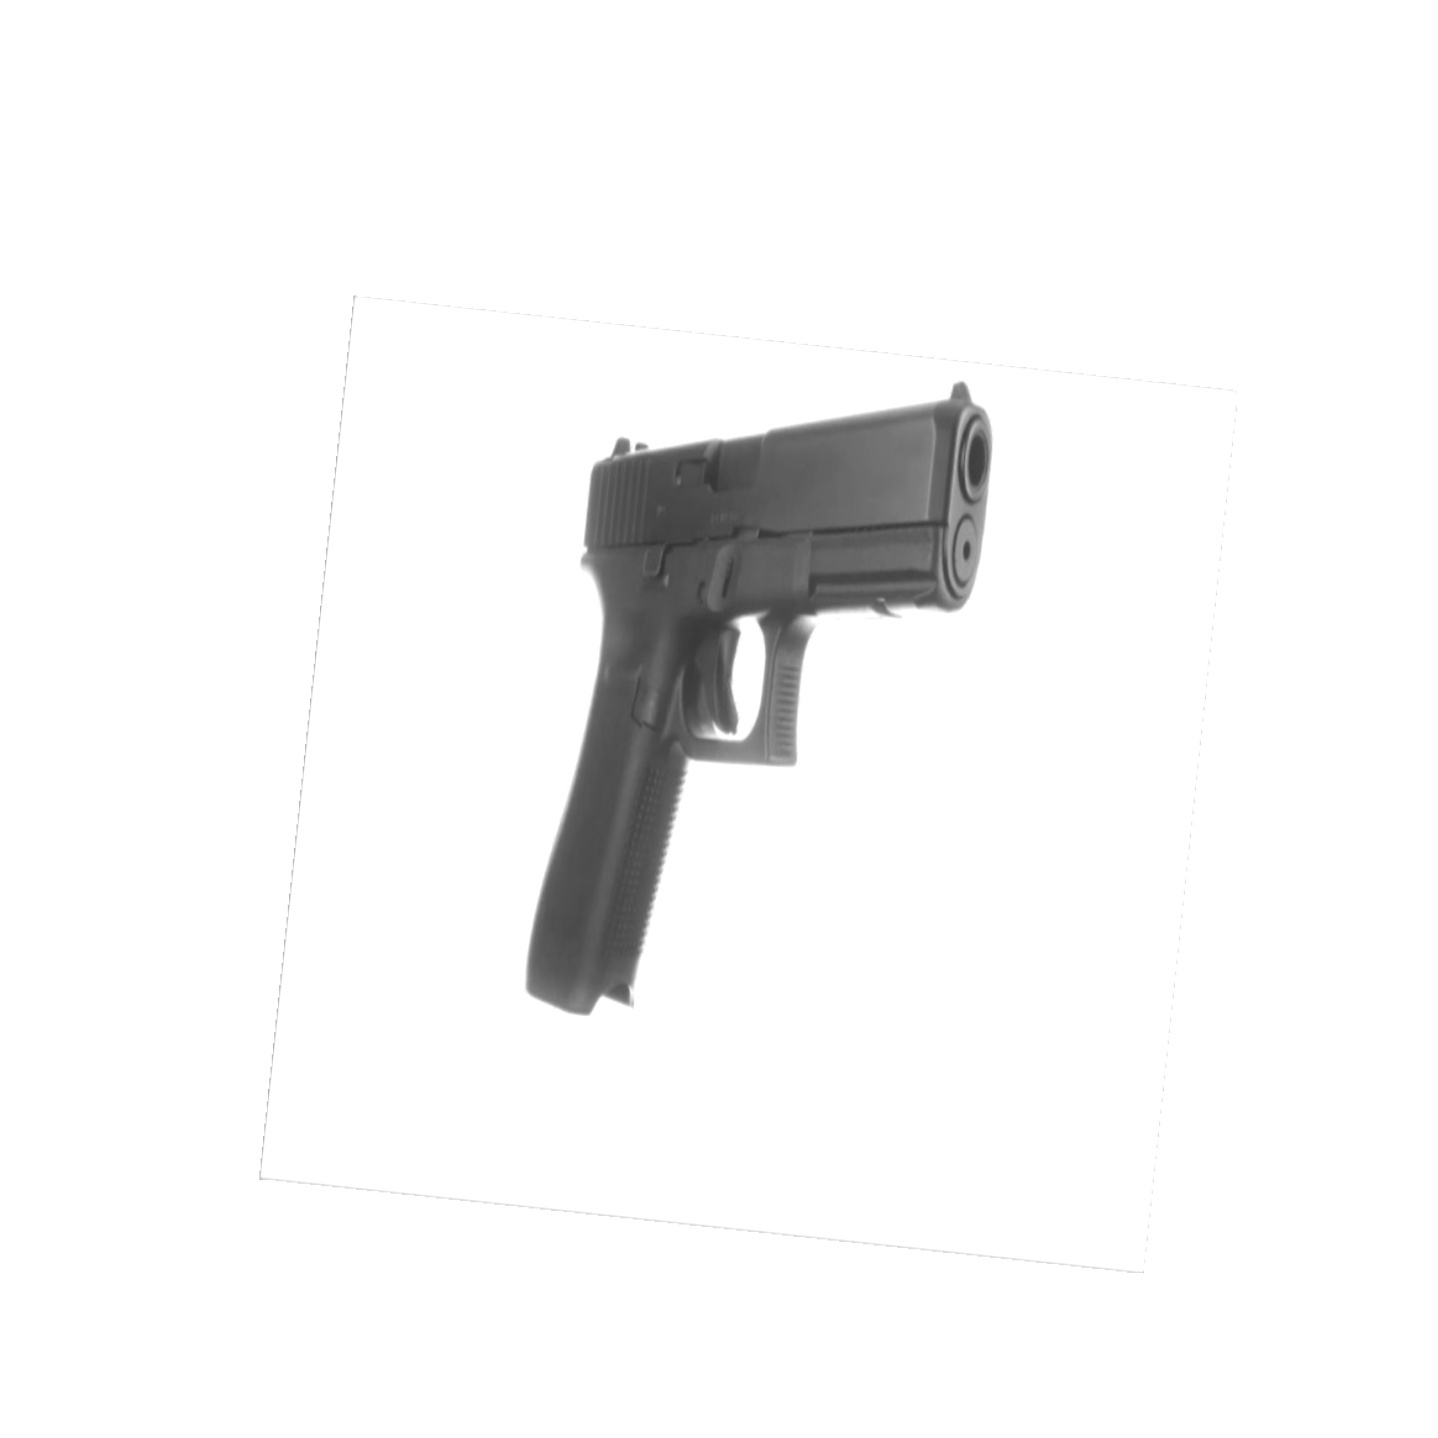gun: (508, 375, 999, 1028)
